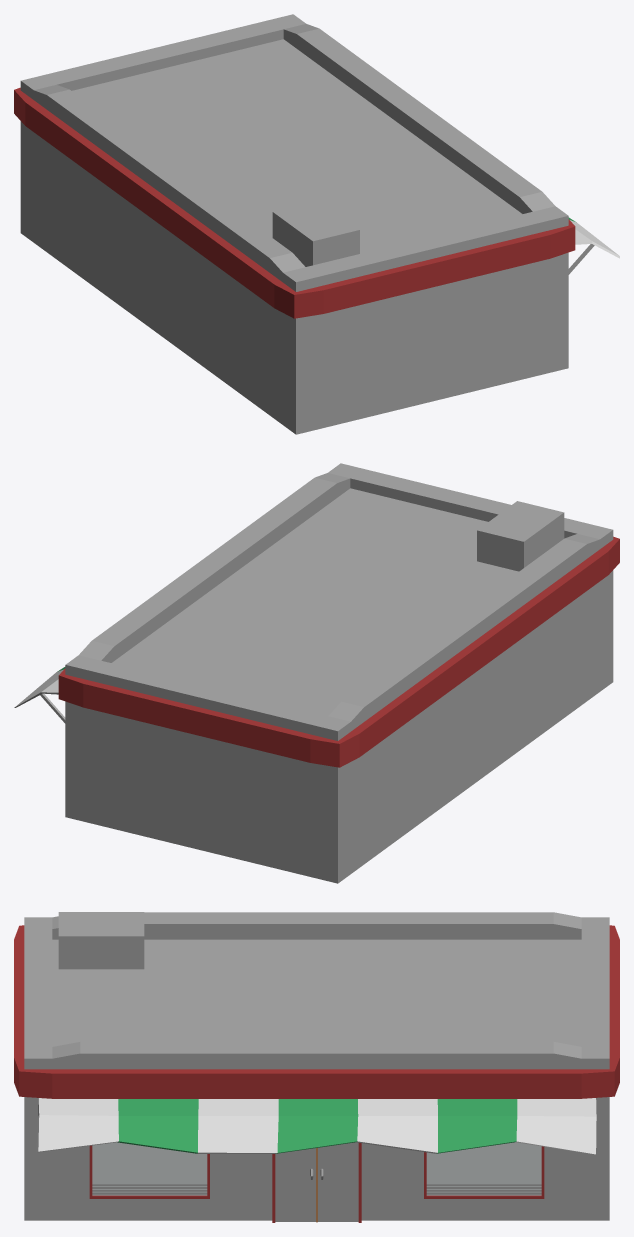
Rendered from Building_2.fbx.
3 renders of one model, top to bottom at view 1: azimuth 30°, elevation 25°; view 2: azimuth 150°, elevation 25°; view 3: azimuth 270°, elevation 25°, orthographic. The views are drawn at different scales.
Visible parts, largest first — view 1: polySurface5; view 2: polySurface5; view 3: polySurface5.
Part boxes in pixels (x1,y1,x2,y2): polySurface5: [14, 14, 619, 434]; polySurface5: [14, 463, 619, 883]; polySurface5: [14, 912, 619, 1222].
Size of the model in its own units: 9.95 by 4.87 by 14.5.
